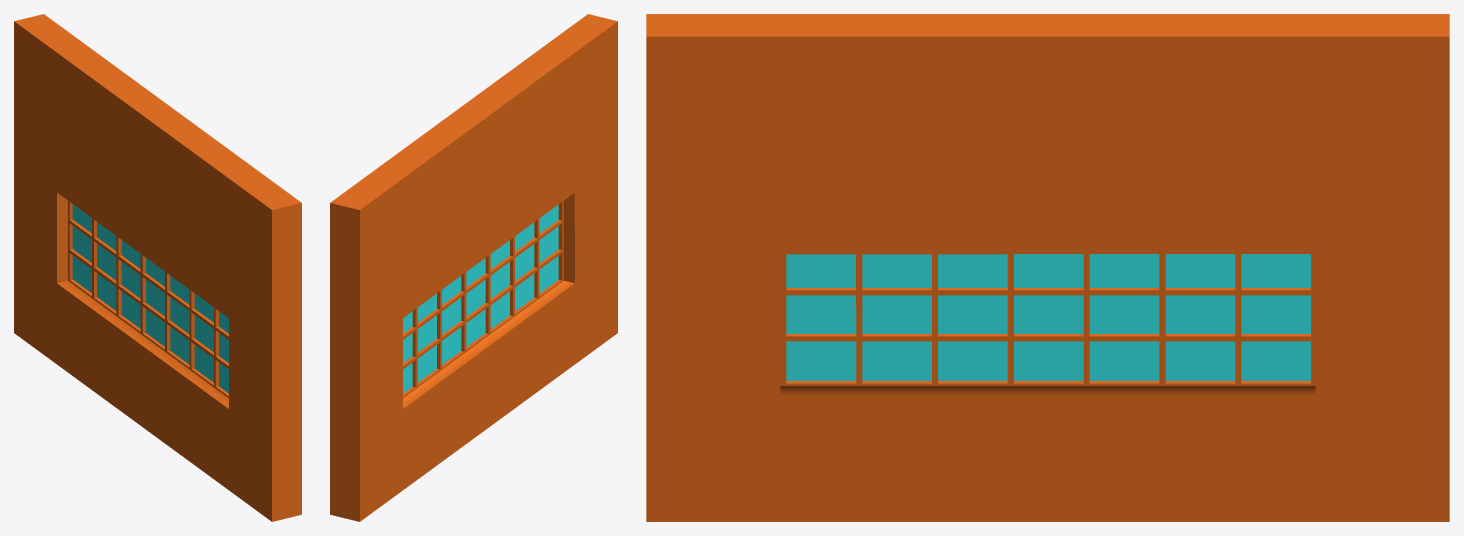
File: Mur_UsineEtageVitreInterieur.fbx
The picture shows the model from 3 angles, left to right: view 1: azimuth 30°, elevation 25°; view 2: azimuth 150°, elevation 25°; view 3: azimuth 270°, elevation 25°; orthographic projection. The views are drawn at different scales.
Parts seen in each view (by area): view 1: Mur_UsineEtageVitreInterieur; view 2: Mur_UsineEtageVitreInterieur; view 3: Mur_UsineEtageVitreInterieur.
Part boxes in pixels (bbox=[...]): Mur_UsineEtageVitreInterieur: bbox=[14, 14, 301, 521]; Mur_UsineEtageVitreInterieur: bbox=[330, 14, 617, 521]; Mur_UsineEtageVitreInterieur: bbox=[646, 14, 1449, 521].
Size of the model in its own units: 40 by 400 by 600.
